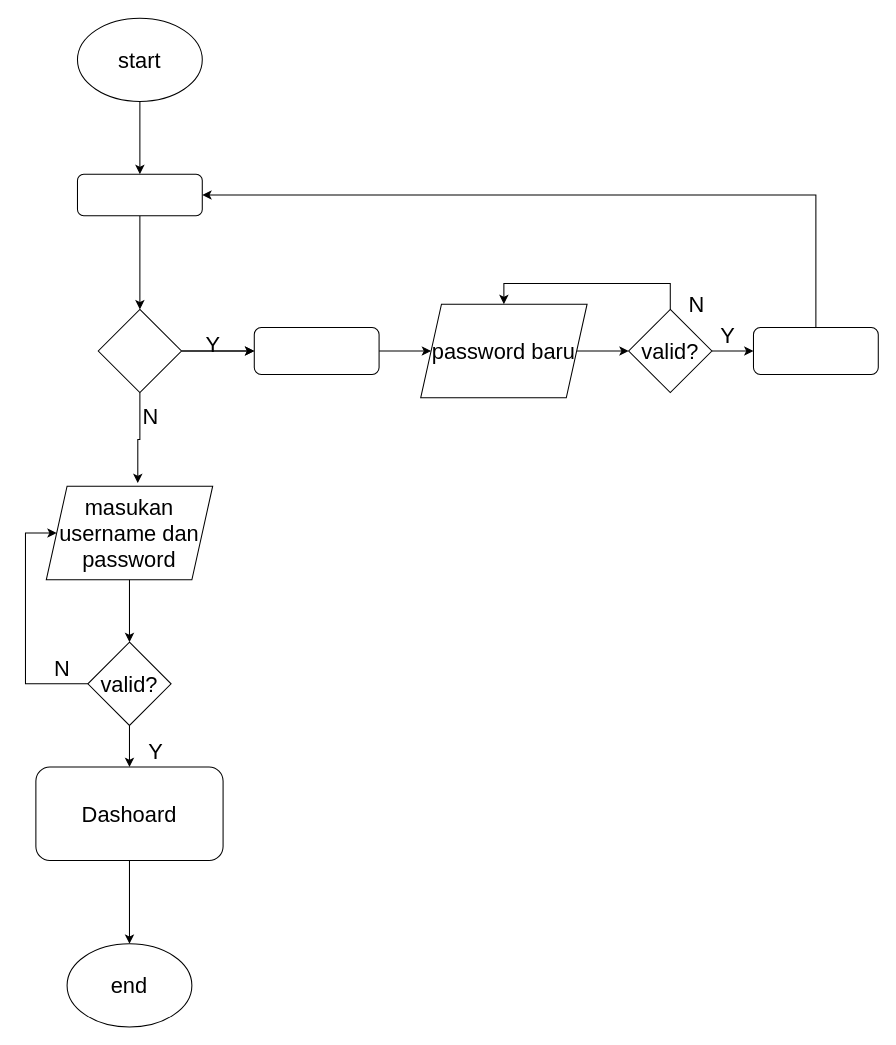
Some shapes in this 896 by 1045 pixel diagram are drawn without their labels. Here are the shapes that lost their labels. From the top down, the centre of each, then its label:
At point (139, 194): "Login".
At point (139, 350): "Lupa?".
At point (316, 350): "lupa kata sandi".
At point (815, 350): "berhasil diubah".
